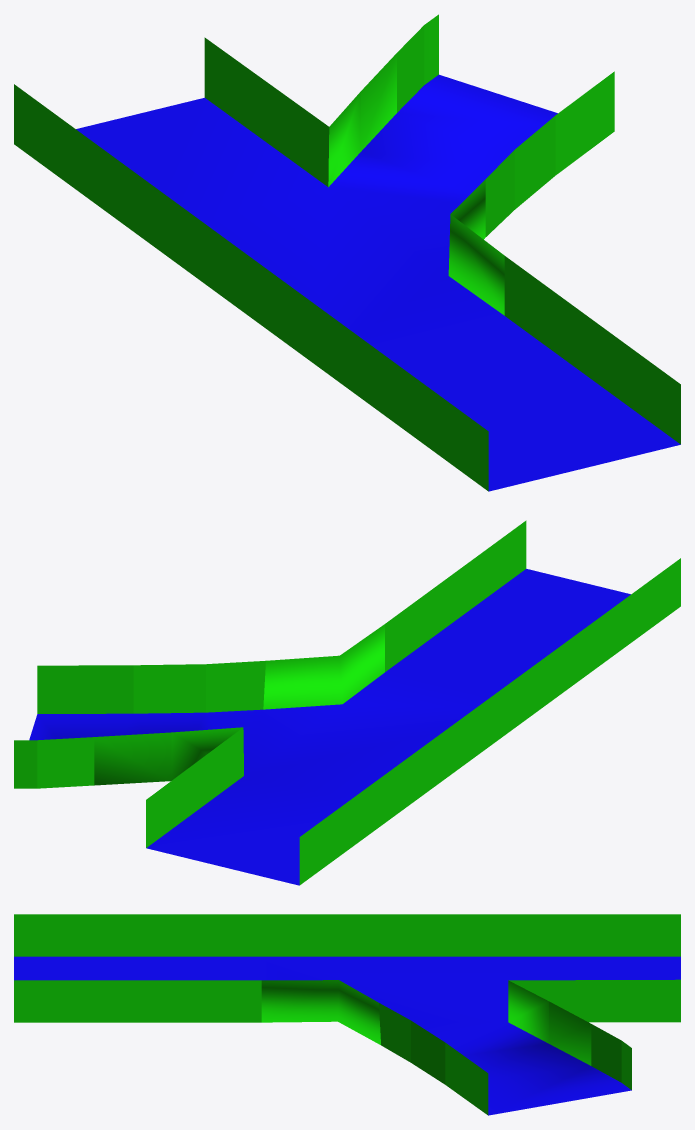
File: IntersectionVraiFinal.fbx
3 views of the same model, one above another, from view 1: azimuth 30°, elevation 25°; view 2: azimuth 150°, elevation 25°; view 3: azimuth 270°, elevation 25° (orthographic). The views are drawn at different scales.
Parts seen in each view (by area): view 1: svgMesh1.002; view 2: svgMesh1.002; view 3: svgMesh1.002.
Boxes of the visible parts, x1=… form: svgMesh1.002: x1=14, y1=14, x2=680, y2=491; svgMesh1.002: x1=14, y1=520, x2=680, y2=885; svgMesh1.002: x1=14, y1=914, x2=680, y2=1115.
Size of the model in its own units: 362 by 45.98 by 643.
